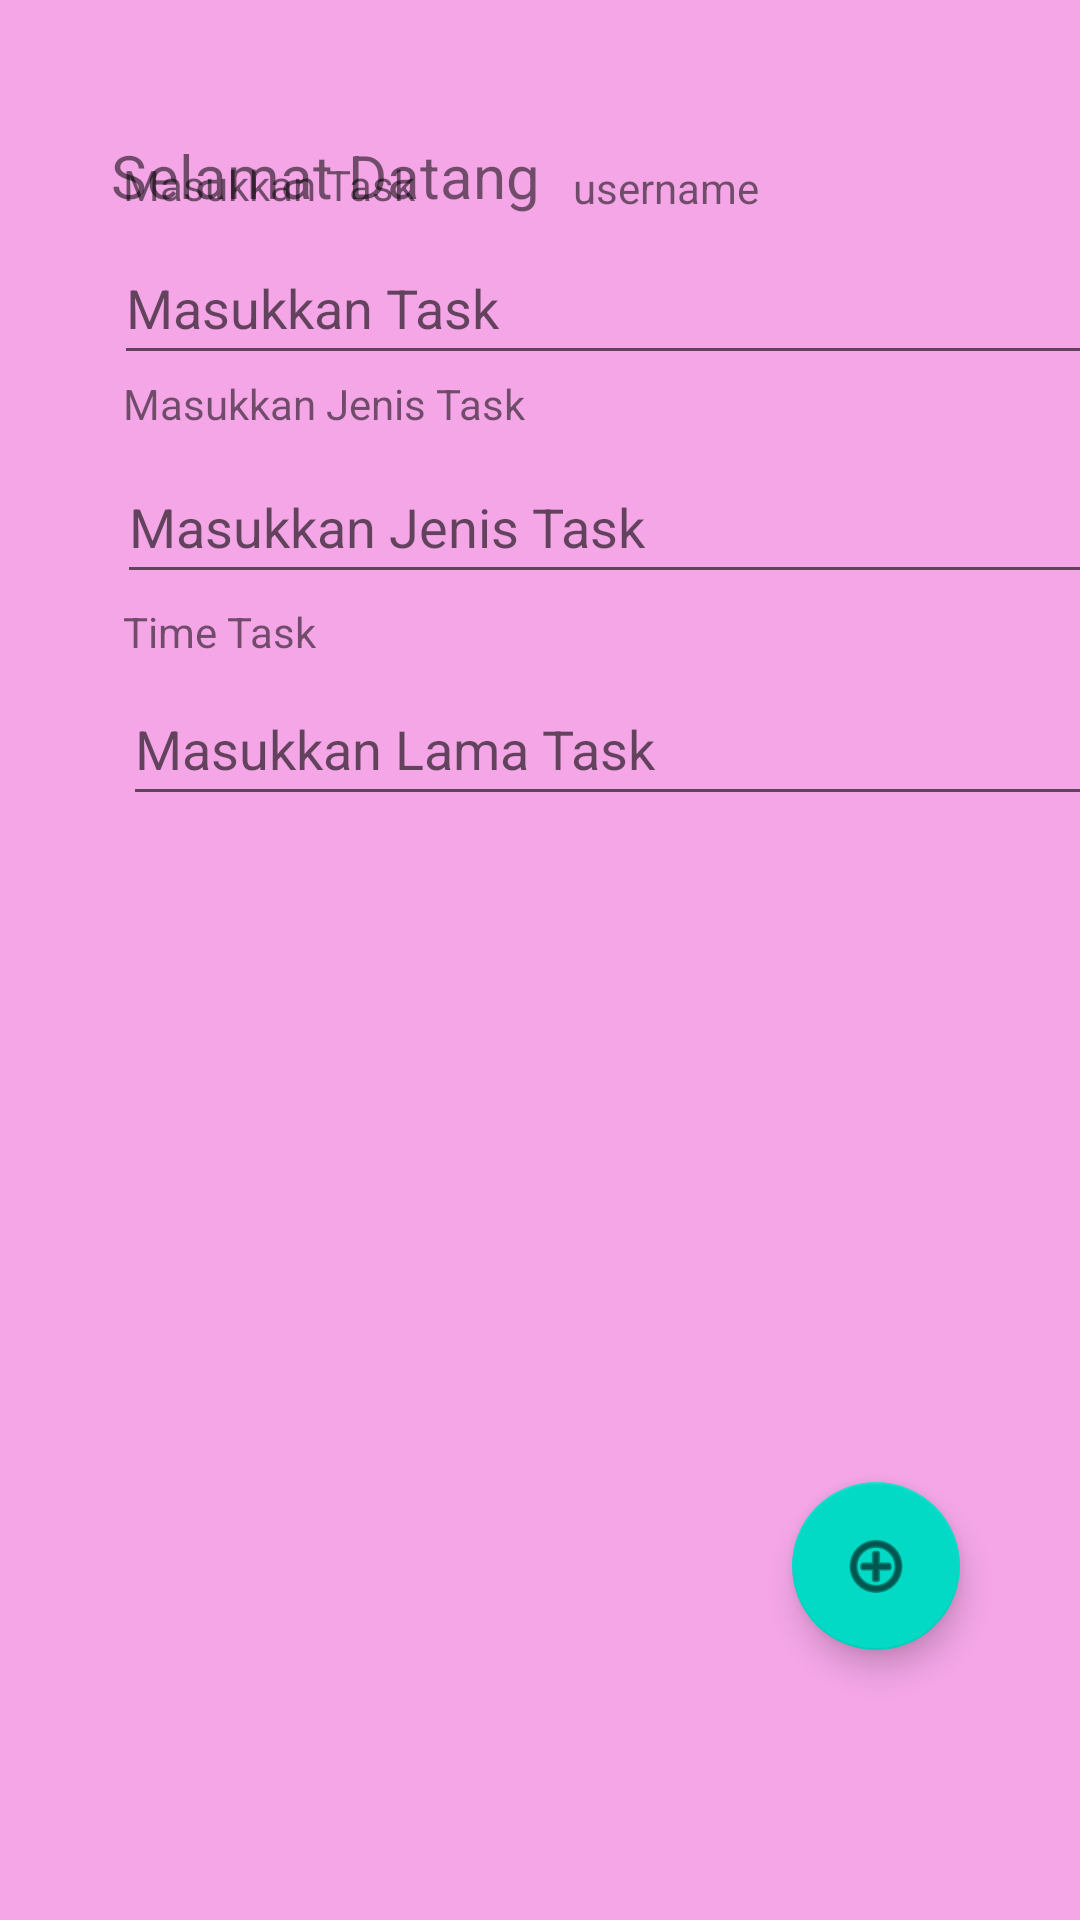

Named icons in this screenshot (1080 × 1920) and their bounding boxes, {"left": x1, "top": y1, "right": x2, "bottom": y2}:
add: {"left": 792, "top": 1482, "right": 960, "bottom": 1650}
